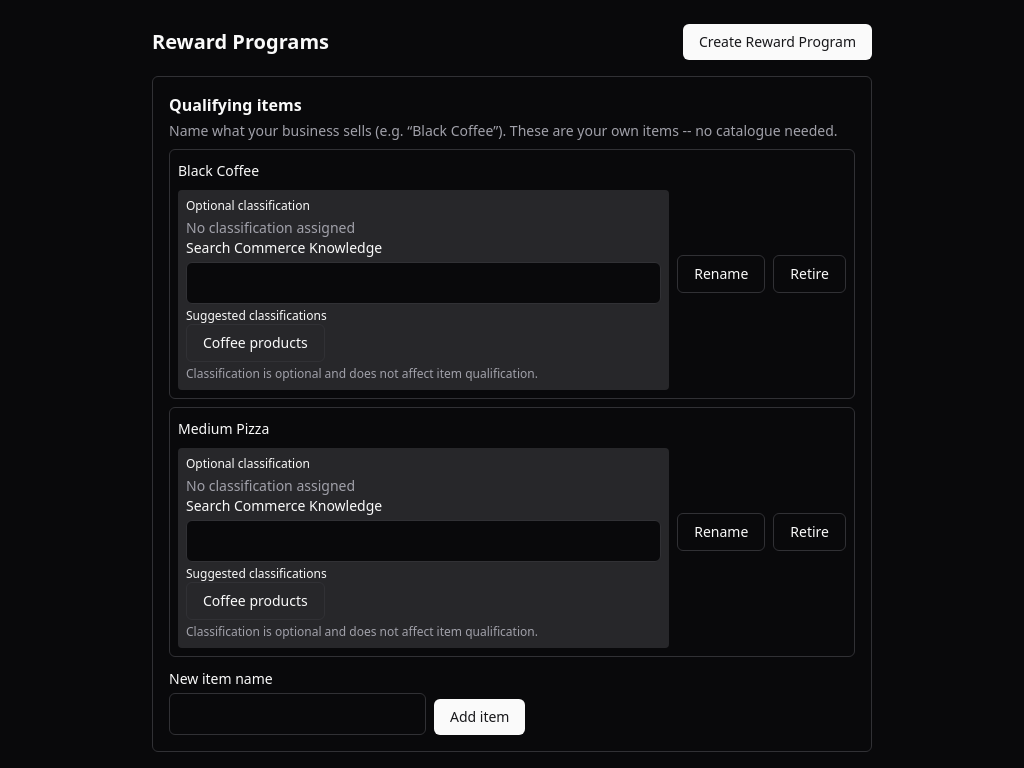
Test: RewardProgramManagementPage (PLATFORM-BASELINE-005A) › PLATFORM-BASELINE-013B: Business-owned qualifying-item selection › shows human-readable Business item options by default — never a raw id input, and no taxonomy gate
The image size is (1024, 768).
Click the button "Create Reward Program" at (777, 42), box [683,24,872,60]
(page scrolled)
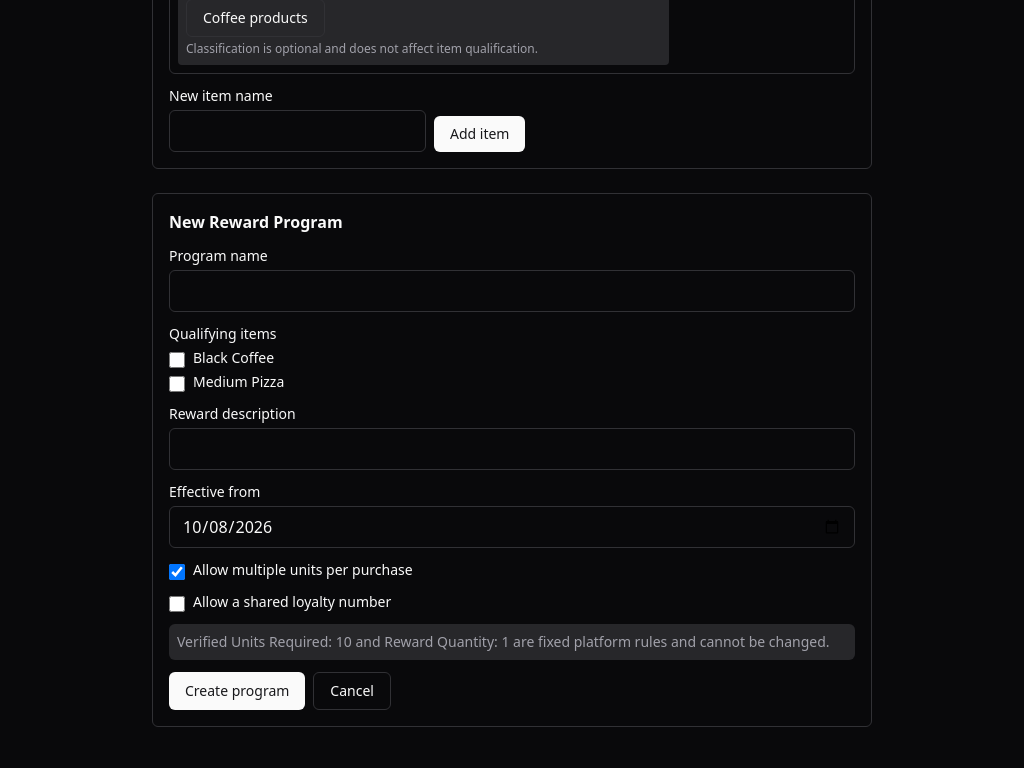
Now the checkbox labelled "Black Coffee" is shown, box [169,352,185,368]
Now the checkbox labelled "Medium Pizza" is shown, box [169,376,185,392]
